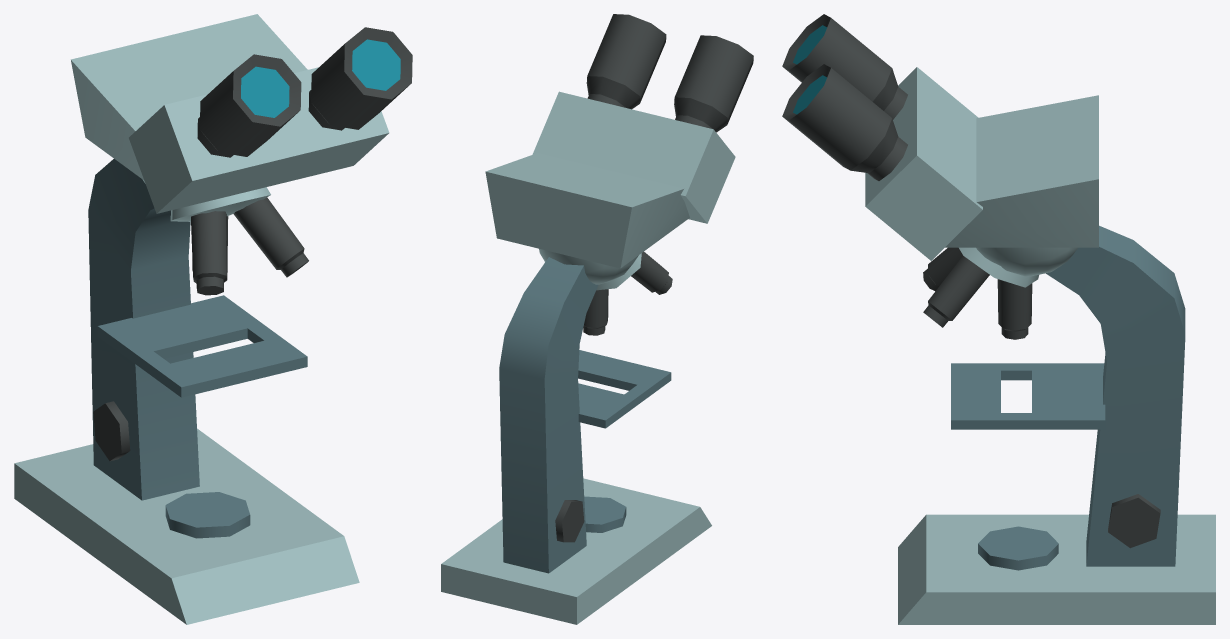
File: microscope.fbx
The picture shows the model from 3 angles, left to right: view 1: azimuth 30°, elevation 25°; view 2: azimuth 150°, elevation 25°; view 3: azimuth 270°, elevation 25°; orthographic projection. The views are drawn at different scales.
Parts seen in each view (by area): view 1: microscope; view 2: microscope; view 3: microscope.
Boxes of the visible parts, x1=… form: microscope: x1=14, y1=14, x2=412, y2=624; microscope: x1=441, y1=14, x2=753, y2=624; microscope: x1=782, y1=14, x2=1215, y2=624.
Bounding box in the file's own units: 7.95 × 22.73 × 16.44.
